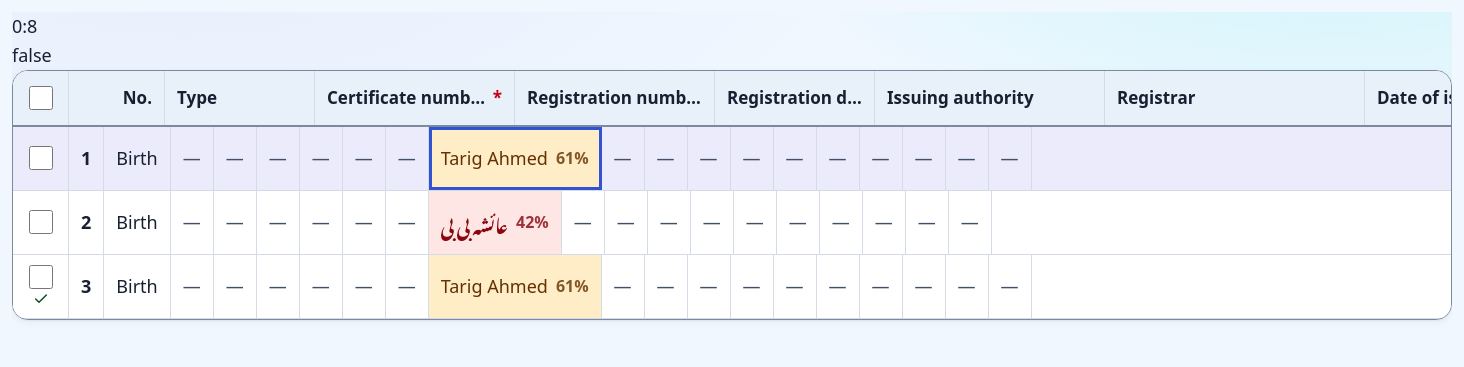
Test: ResultsGrid selection › chooses one row from its own checkbox
Step 1. Click the checkbox named "Choose certificate number 2" → (40, 222), box top-left (28, 210), bottom-right (52, 234)
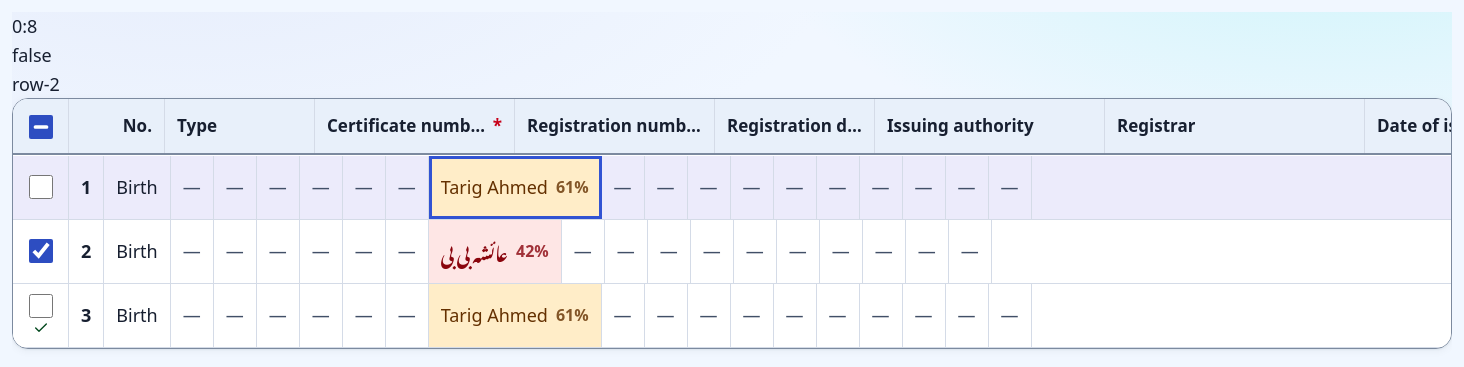
Expected: the text with test id "chosen" reads "row-2", top-left (12, 72), bottom-right (60, 96)
